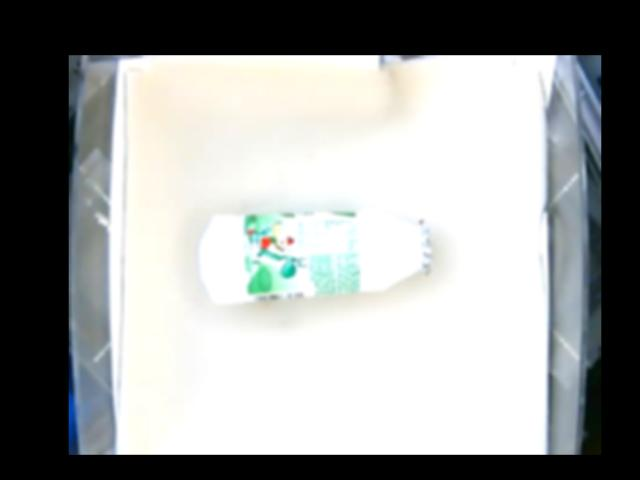Bottle: (202, 210, 431, 305)
